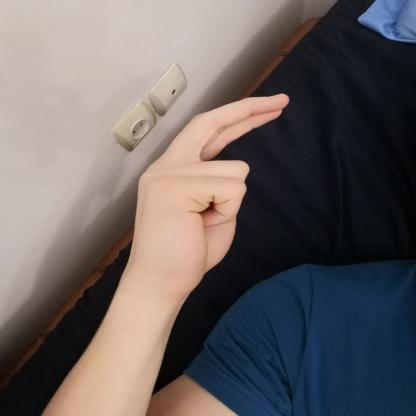ZAY: (108, 82, 307, 293)
